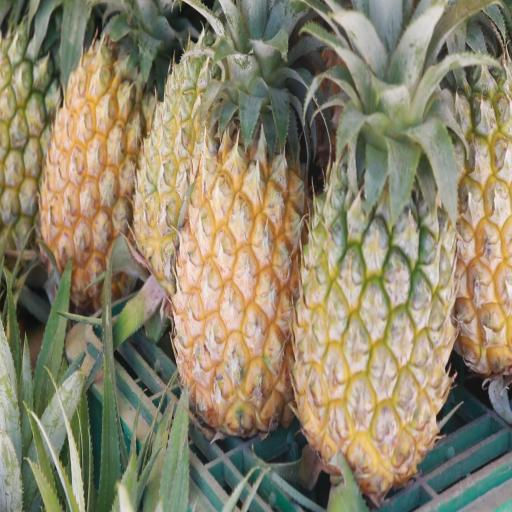------------------------------: (288, 0, 458, 512)
Pineapple - v8 v1: (165, 0, 316, 446), (35, 0, 164, 305), (131, 0, 236, 297)
